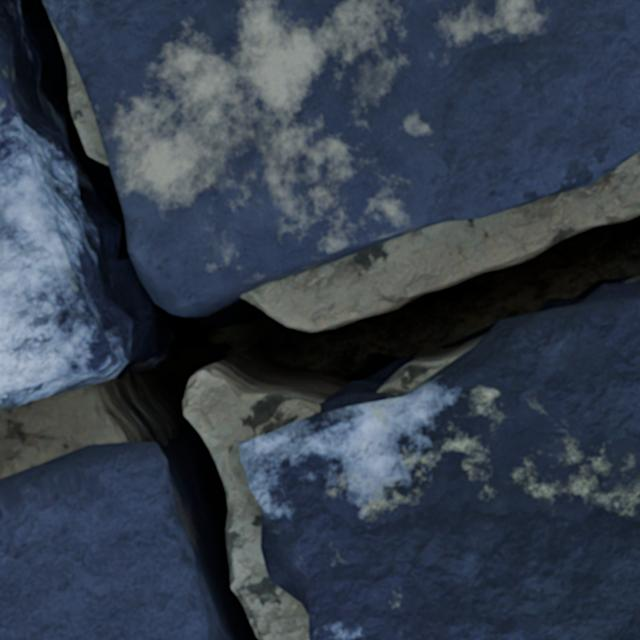brick: (44, 0, 639, 313), (239, 284, 639, 639), (0, 28, 131, 407), (0, 443, 226, 639)
crack: (0, 0, 639, 639)
